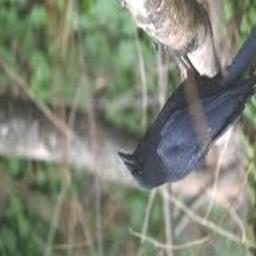Crow: (117, 11, 256, 190)
